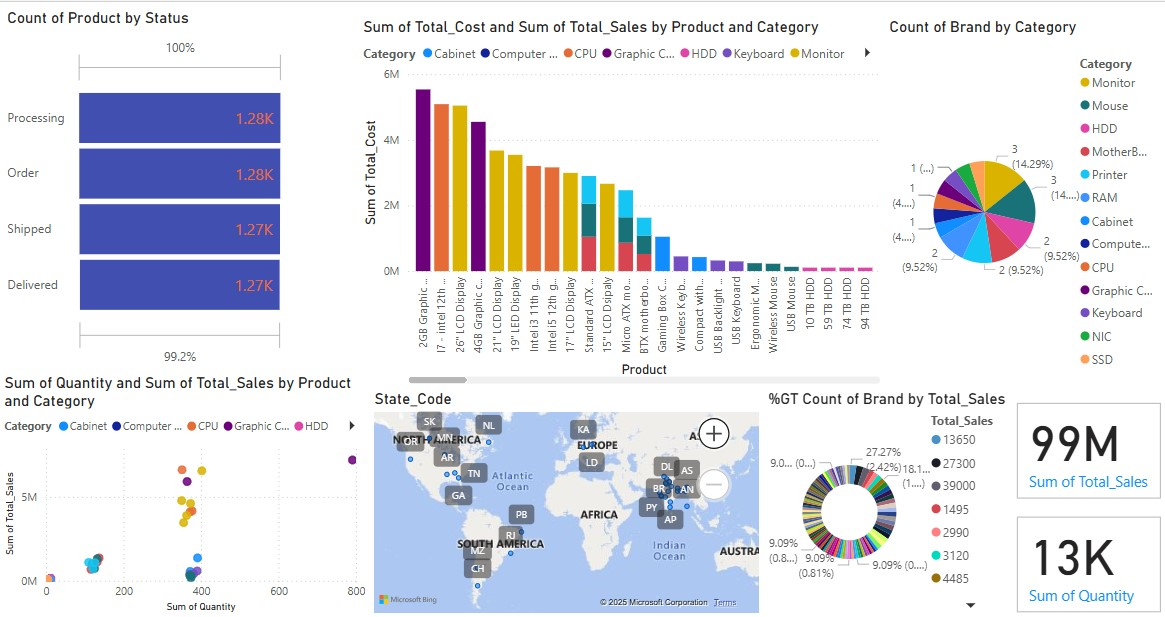

This screenshot's page, from the dashboard's own definition file:
{"tool":"powerbi","page":{"name":"Page 1","canvas":[1280,720],"ordinal":0},"visuals":[{"type":"funnel","fields":{"Y":["CountNonNull(Sales_Data.Product)"],"Category":["Sales_Data.Status"]},"box":[0,45.3,321.1,407.5],"z":0},{"type":"scatterChart","fields":{"Category":["Sales_Data.Product"],"X":["Sum(Sales_Data.Quantity)"],"Series":["Sales_Data.Category"],"Y":["Sum(Sales_Data.Total_Sales)"]},"box":[0,452.8,406.2,267.6],"z":1000},{"type":"columnChart","fields":{"Category":["Sales_Data.Product"],"Y":["Sum(Sales_Data.Total_Cost)"],"Series":["Sales_Data.Category"]},"box":[393.8,61.7,577.7,407.5],"z":2000},{"type":"map","fields":{"Category":["Sales_Data.State_Code"]},"box":[406.2,470.7,432.2,249.7],"z":3000},{"type":"pieChart","fields":{"Y":["Count(Sales_Data.Brand)"],"Category":["Sales_Data.Category"]},"box":[971.5,61.7,308.7,408.9],"z":4000},{"type":"donutChart","fields":{"Category":["Sales_Data.Total_Sales"],"Y":["CountNonNull(Sales_Data.Brand)"]},"box":[838.4,470.7,274.4,249.7],"z":4001},{"type":"cardVisual","fields":{"Data":["Sum(Sales_Data.Total_Sales)"]},"box":[1111.5,480.3,168.8,115.3],"z":4002},{"type":"cardVisual","fields":{"Data":["Sum(Sales_Data.Quantity)"]},"box":[1111.5,605.1,168.8,115.3],"z":4003}]}

Visuals, with their boxes on the page's 1280x720 design canvas (x1, y1, x2, y2). These are canvas units, not pixel positions in the 1165x617 screenshot, which may show the page scaled, cropped or inside an application window:
funnel - CountNonNull(Sales_Data.Product) x Sales_Data.Status: <region>0, 45, 321, 453</region>
scatterChart - Sales_Data.Product x Sum(Sales_Data.Quantity): <region>0, 453, 406, 720</region>
columnChart - Sales_Data.Product x Sum(Sales_Data.Total_Cost): <region>394, 62, 972, 469</region>
map - Sales_Data.State_Code: <region>406, 471, 838, 720</region>
pieChart - Count(Sales_Data.Brand) x Sales_Data.Category: <region>972, 62, 1280, 471</region>
donutChart - Sales_Data.Total_Sales x CountNonNull(Sales_Data.Brand): <region>838, 471, 1113, 720</region>
cardVisual - Sum(Sales_Data.Total_Sales): <region>1112, 480, 1280, 596</region>
cardVisual - Sum(Sales_Data.Quantity): <region>1112, 605, 1280, 720</region>
